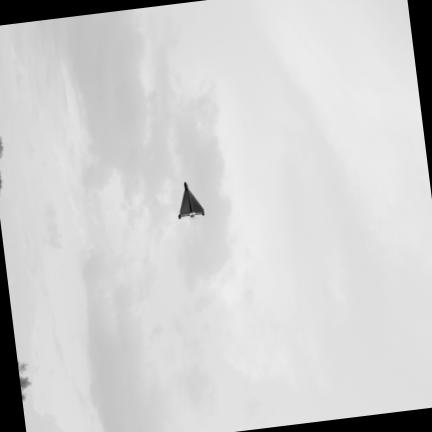Shahed: (175, 181, 204, 220)
